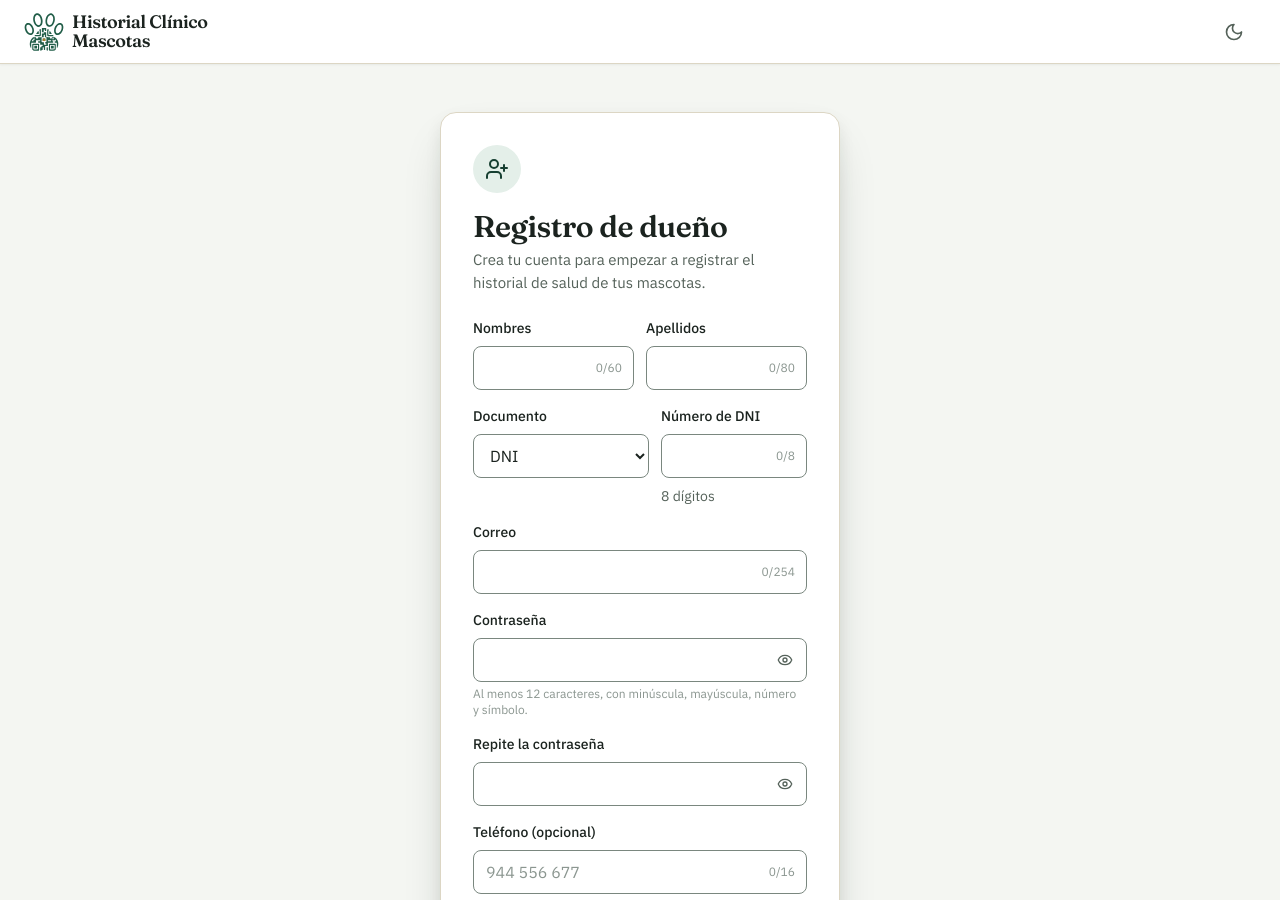
Test: PaginaRegistro: entradas con lógica real › los nombres descartan dígitos y símbolos; el teléfono solo deja dígitos
Type "Ana<3>Ruiz" into the field labelled "Nombres" at (554, 368), box [473,346,634,390]
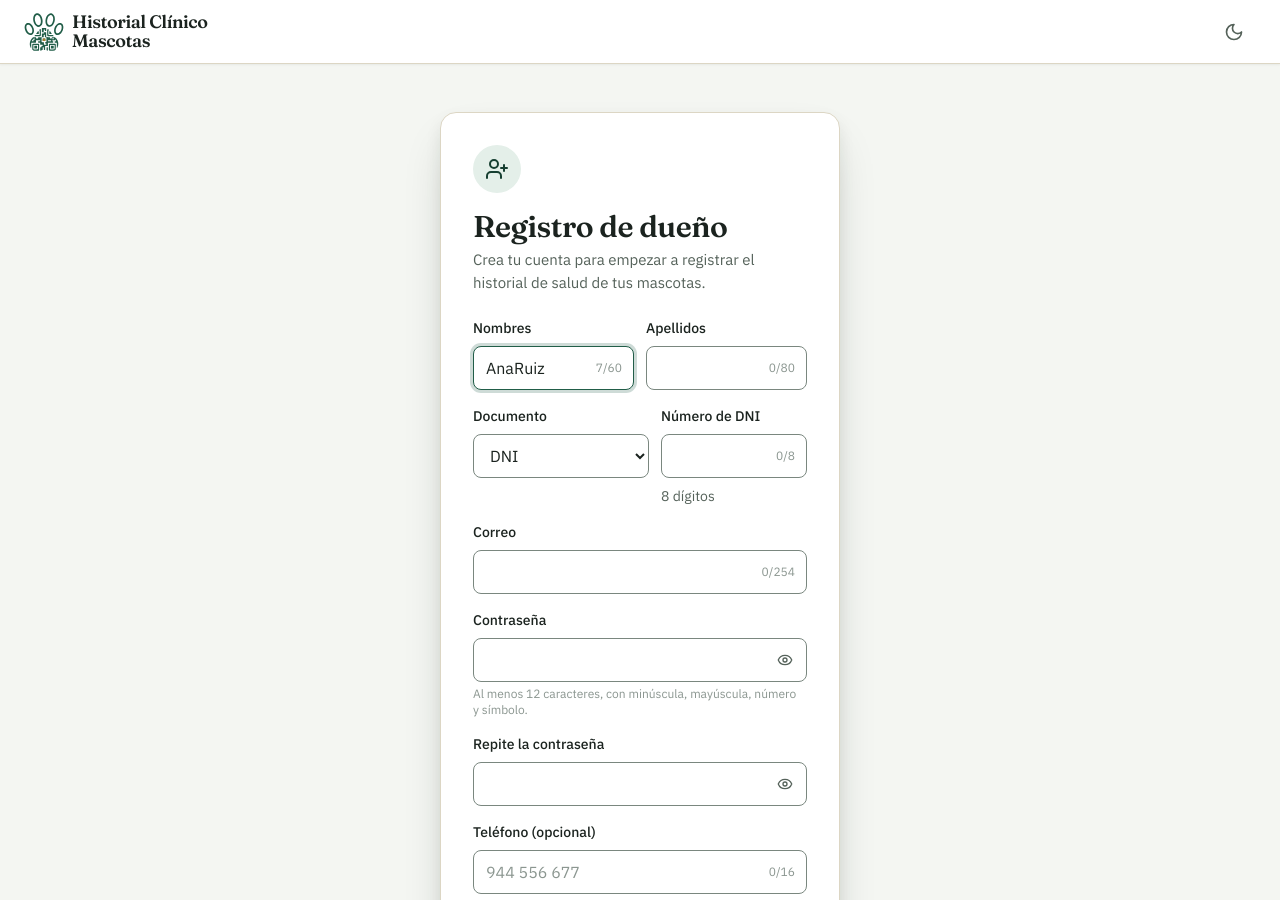
Check: the field labelled "Nombres" holds "AnaRuiz", box [473,346,634,390]
Type "9a44 5566x77" into the field labelled "Teléfono (opcional)" at (640, 872), box [473,850,807,894]
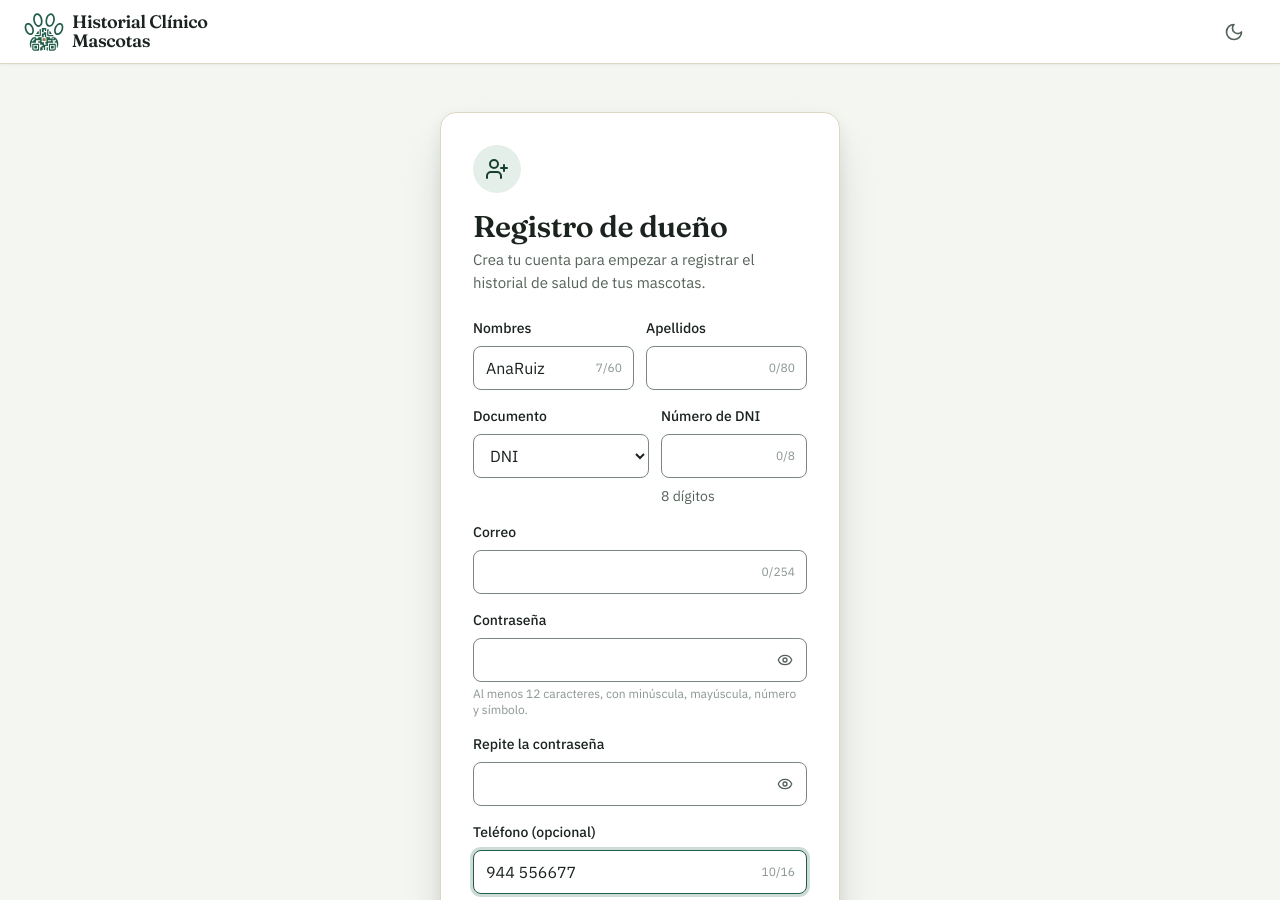
Check: the field labelled "Teléfono (opcional)" holds "944 556677", box [473,850,807,894]
